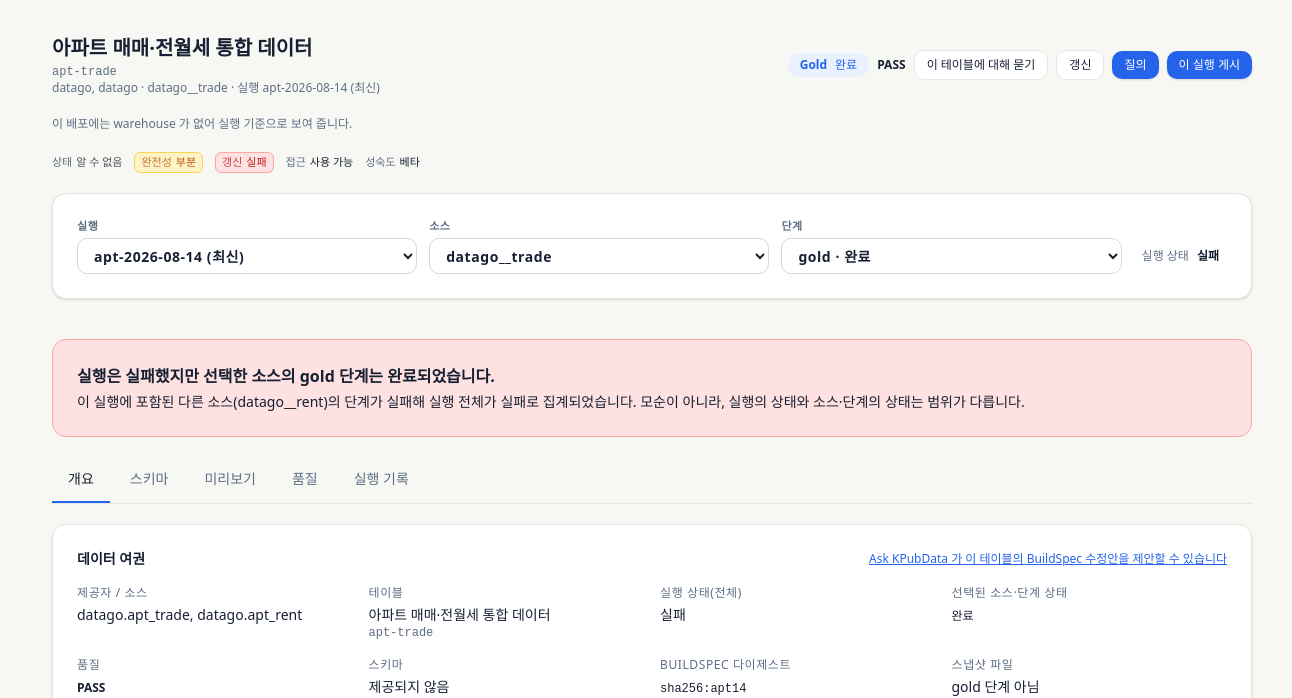
Dataset Detail P0 (#253) › synchronizes source selection and chooses bronze when no higher stage completed
Select "datago__rent" in the dropdown named "소스 선택" at {"x": 599, "y": 256}, box [429, 238, 769, 274]
(page scrolled)
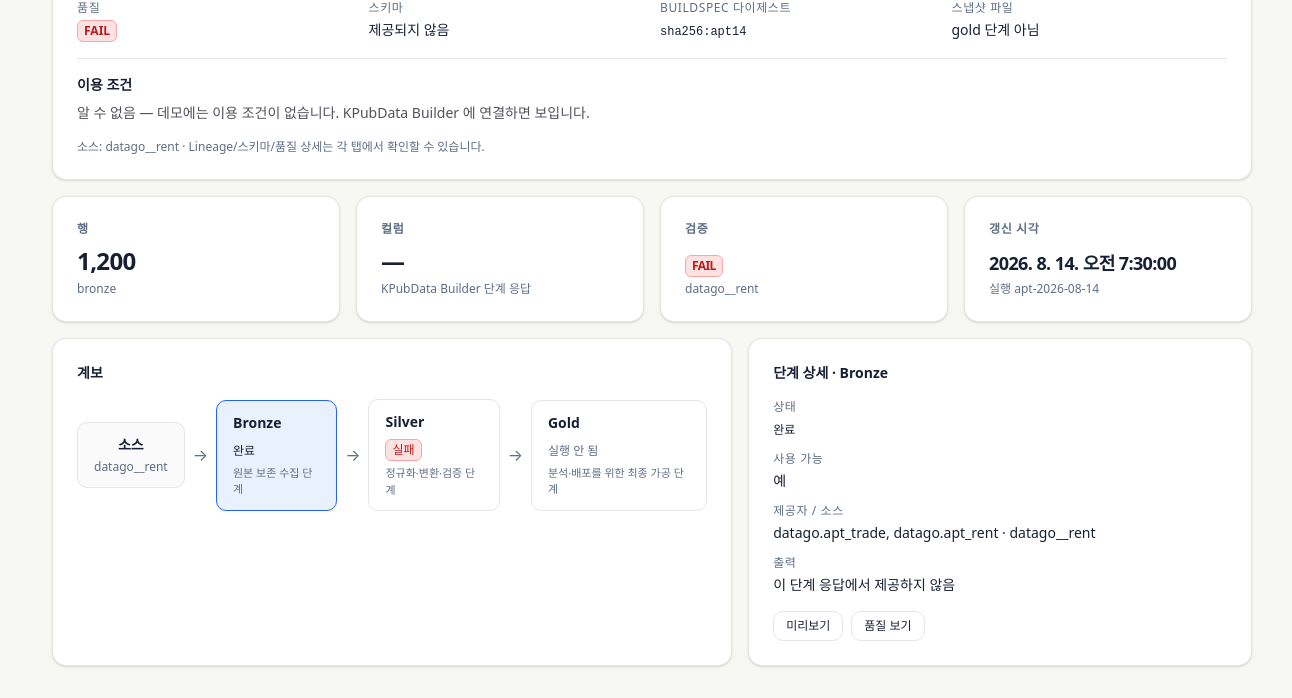
Check: the button "silver 실패 정규화·변환·검증 단계" is shown, box [368, 399, 500, 511]
Check: the button "gold 실행 안 됨 분석·배포를 위한 최종 가공 단계" is shown, box [531, 400, 707, 511]
